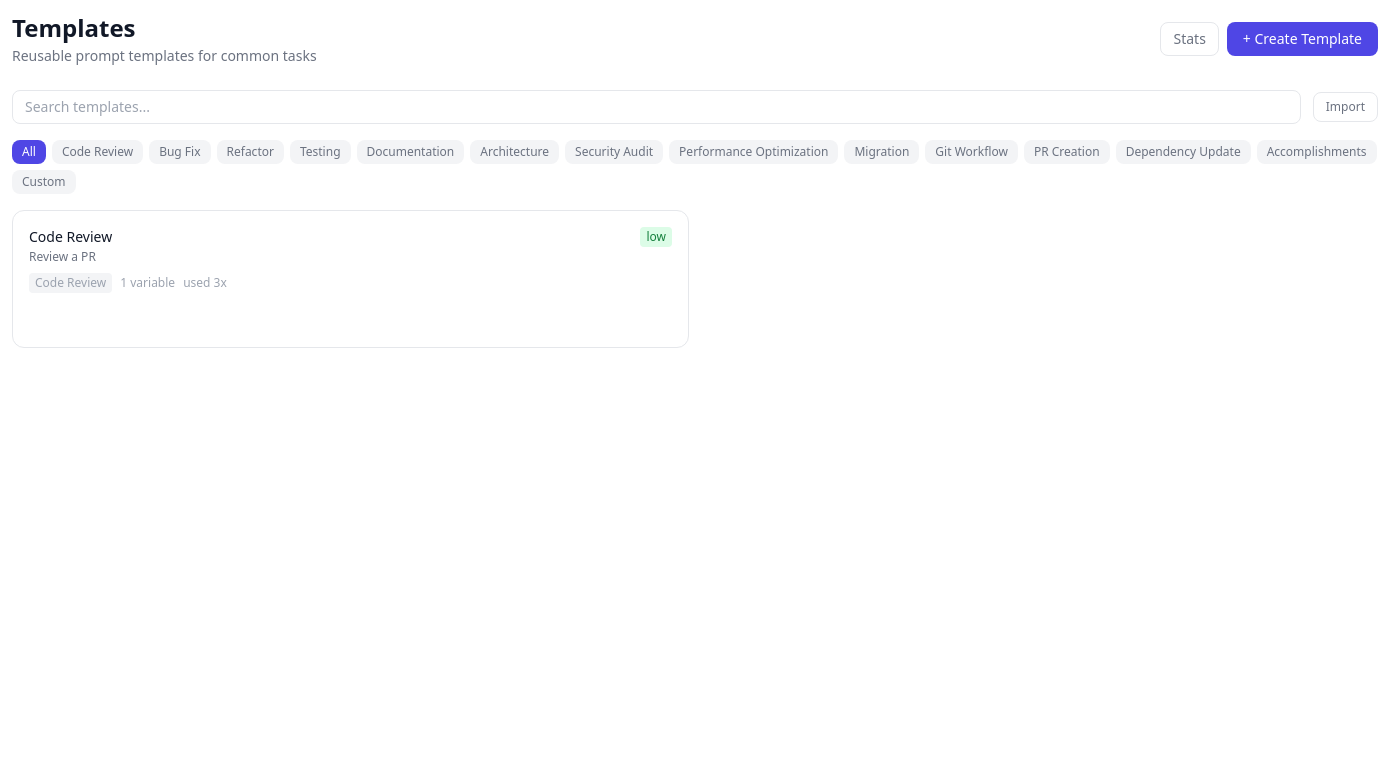
Test: Templates › navigates to Create view on + Create Template click
The image size is (1390, 780).
Check: the button "Code Review" is shown, box [52,140,143,164]
What coordinates should you click on to do the following:
click the button "+ Create Template"
I would click on:
 (1302, 39)
Its box is [1227,22,1378,56].
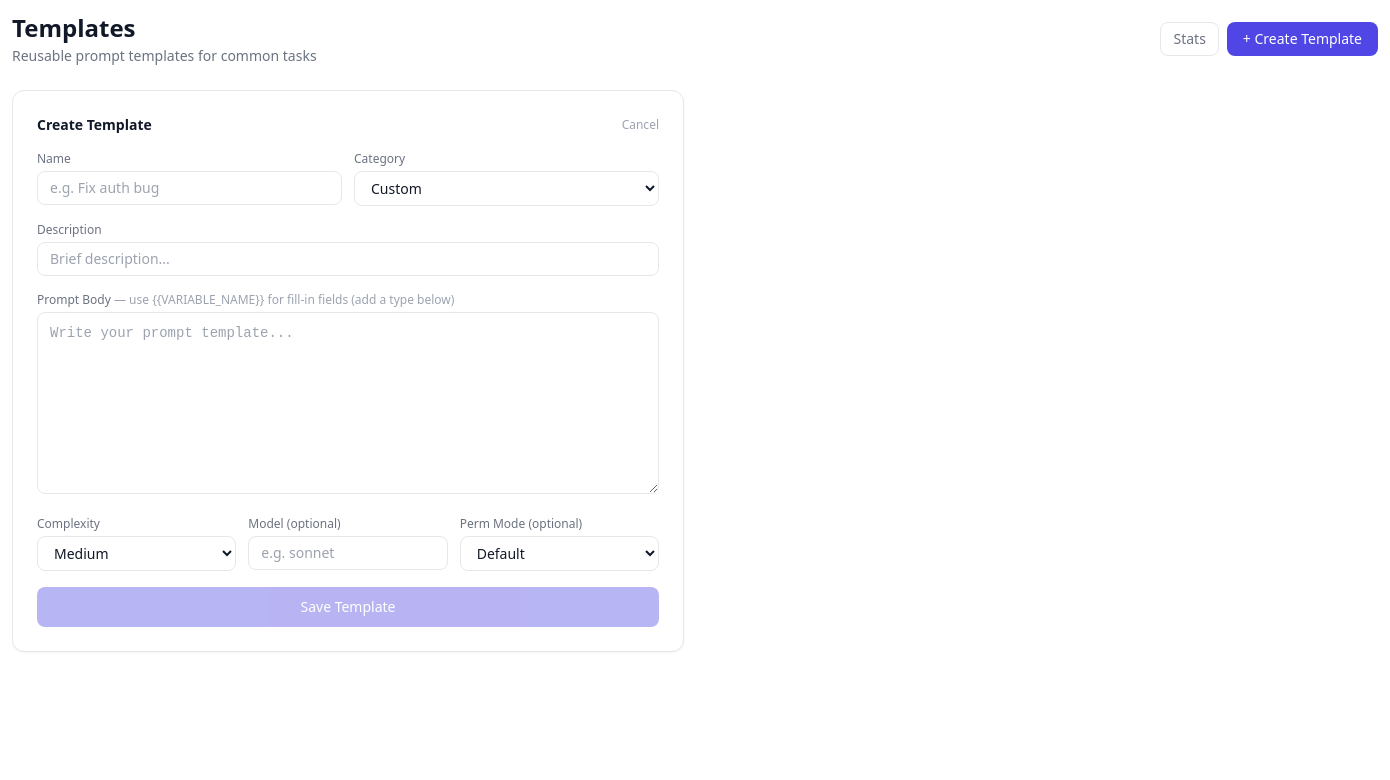
Check: the text "Description" is shown, box [37,221,102,238]
